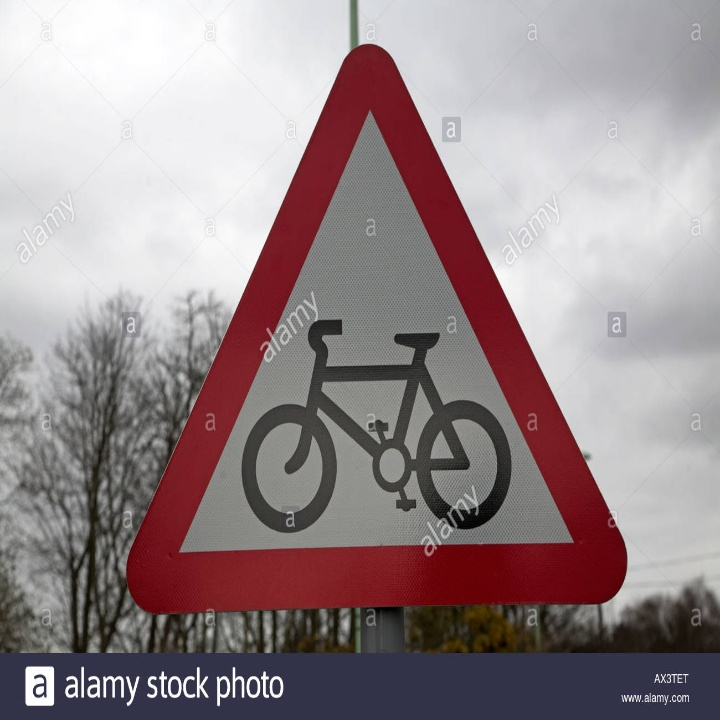bicycle: (241, 318, 512, 531)
